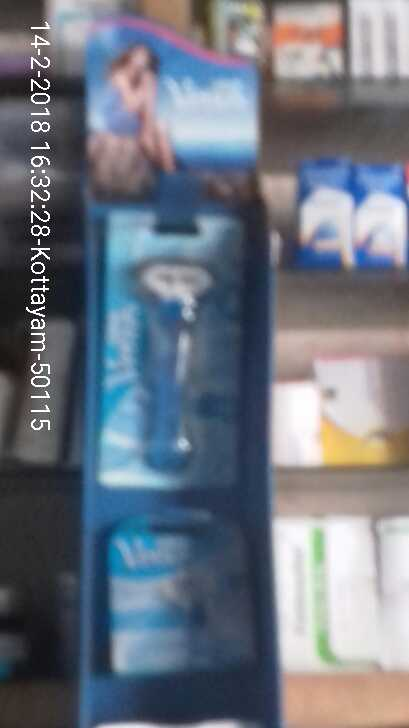beauty: (96, 204, 225, 483)
